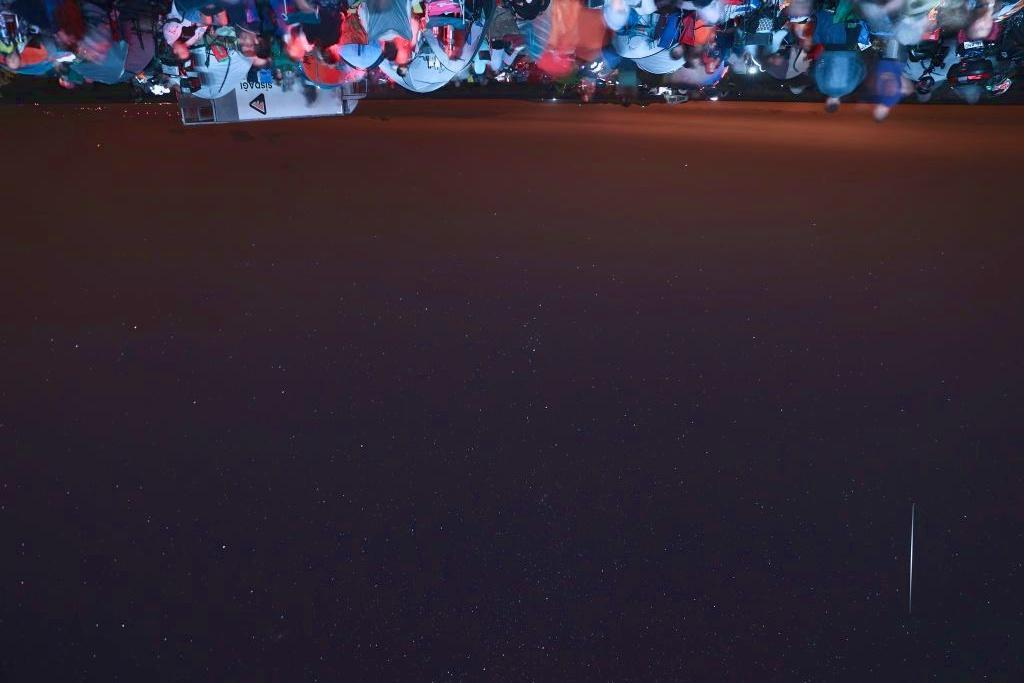meteorite: (896, 505, 927, 604)
